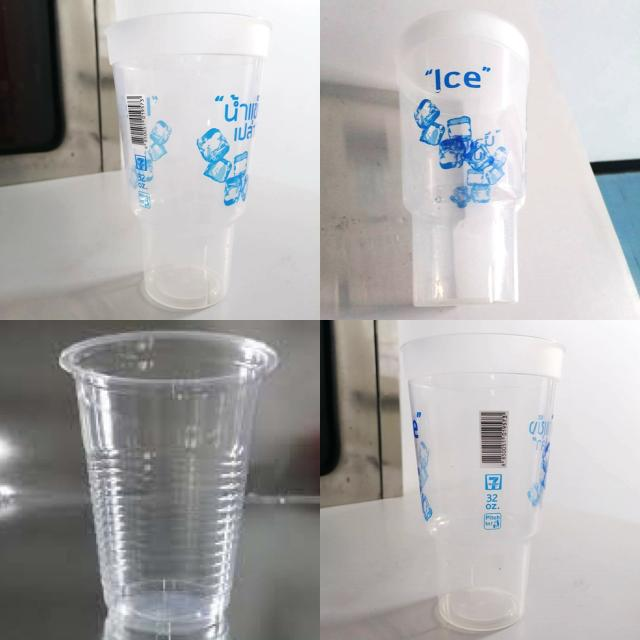Single-Use-Plastic: (60, 331, 279, 638), (106, 12, 271, 310), (401, 334, 564, 631), (395, 11, 529, 306)
